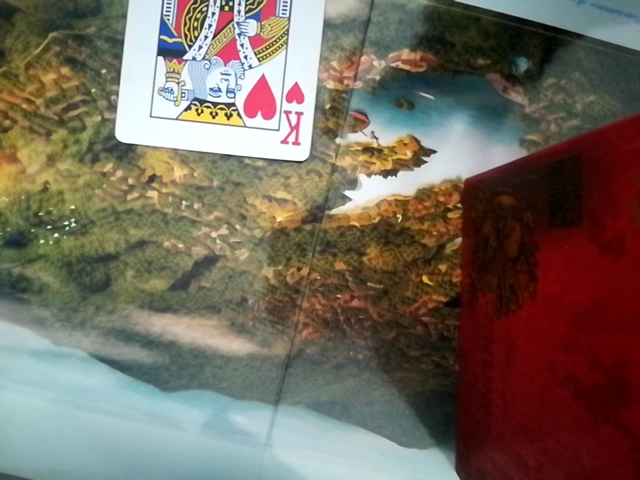hx k: (111, 0, 327, 159)
